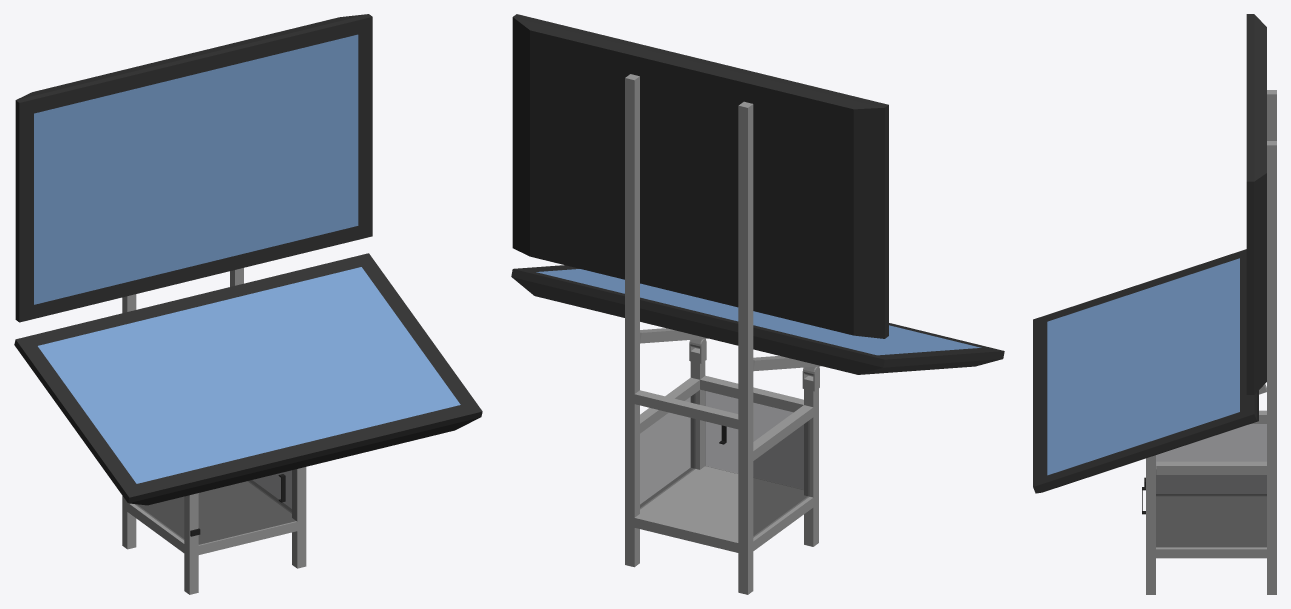
Rendered from OmegaDesk.fbx.
3 renders of one model, left to right at view 1: azimuth 30°, elevation 25°; view 2: azimuth 150°, elevation 25°; view 3: azimuth 270°, elevation 25°, orthographic. The views are drawn at different scales.
Visible parts, largest first — view 1: OmegaDesk-Display.001, OmegaDesk-Display, OmegaDesk-Base, Shelf-SidePanel.001, Shelf-SidePanel; view 2: OmegaDesk-Display.001, OmegaDesk-Base, OmegaDesk-Display, Shelf-SidePanel, Shelf-SidePanel.001, OmegaDesk-AngledSupport, OmegaDesk-AngledSupport.001; view 3: OmegaDesk-Display, OmegaDesk-Base, Shelf-SidePanel, OmegaDesk-Display.001.
Boxes of the visible parts, x1,y1,x2,y2 form: OmegaDesk-Display.001: (15, 14, 372, 322); OmegaDesk-Display: (14, 253, 482, 505); OmegaDesk-Base: (122, 268, 306, 594); Shelf-SidePanel.001: (198, 469, 296, 544); Shelf-SidePanel: (135, 470, 291, 539); OmegaDesk-Display.001: (512, 14, 888, 338); OmegaDesk-Base: (625, 74, 818, 594); OmegaDesk-Display: (511, 265, 1004, 374); Shelf-SidePanel: (640, 394, 809, 537); Shelf-SidePanel.001: (705, 391, 803, 489); OmegaDesk-AngledSupport: (753, 356, 821, 376); OmegaDesk-AngledSupport.001: (640, 328, 707, 348); OmegaDesk-Display: (1033, 249, 1258, 493); OmegaDesk-Base: (1146, 90, 1276, 594); Shelf-SidePanel: (1156, 424, 1266, 547); OmegaDesk-Display.001: (1246, 14, 1266, 394).
Size of the model in its own units: 1.58 by 2.06 by 0.9685.
